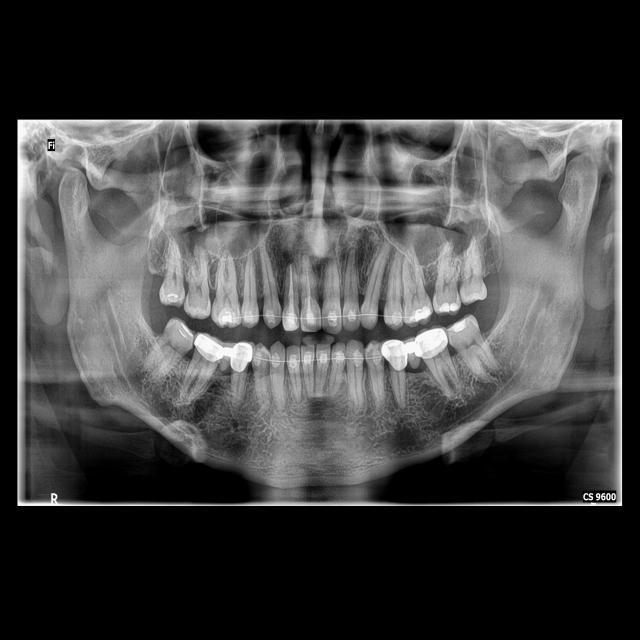dolgu: (432, 294, 460, 314), (412, 299, 434, 322), (448, 315, 473, 334), (302, 309, 318, 336), (280, 316, 300, 334)
kanal-tedavisi: (302, 264, 316, 312), (286, 262, 298, 312)
kaplama: (192, 333, 224, 362), (416, 328, 448, 357), (382, 340, 408, 370), (227, 340, 252, 371)
kok-enfeksiyonu: (275, 249, 301, 271)
kopru: (403, 336, 422, 378)
